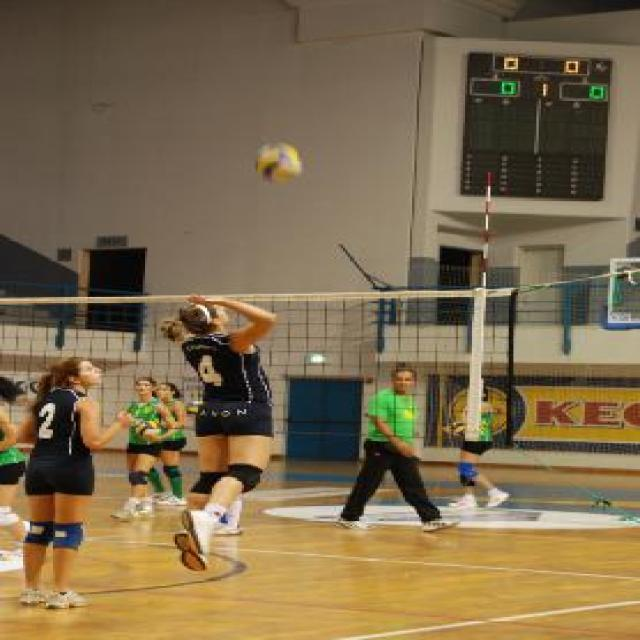Volleyball: (253, 140, 304, 181), (131, 417, 159, 437)
